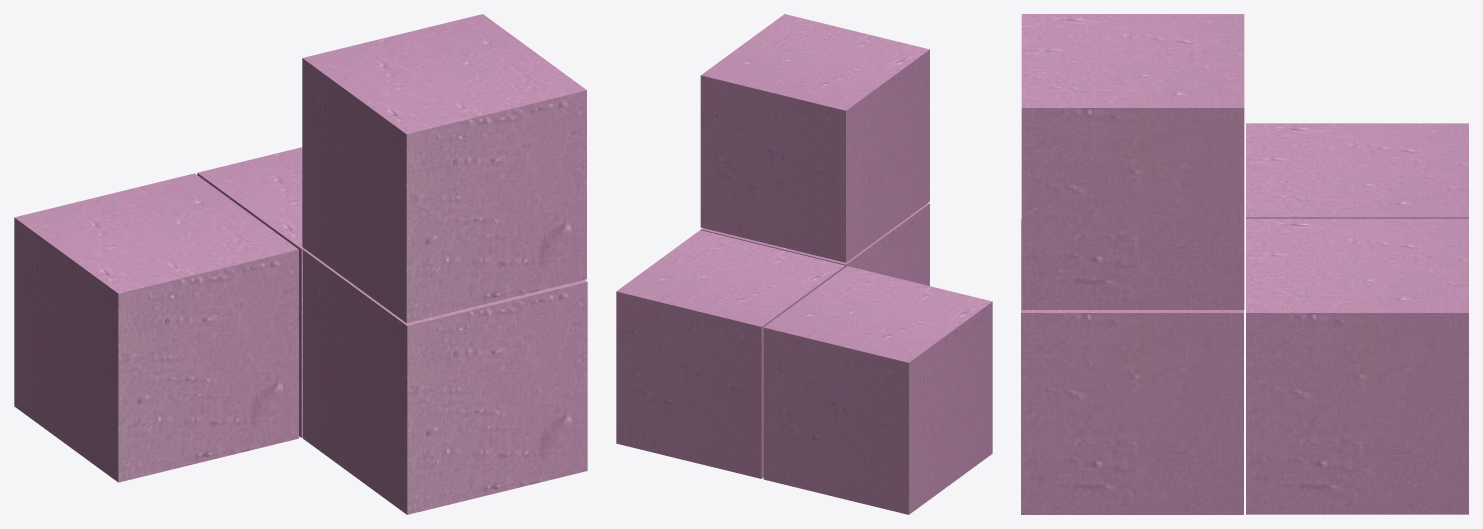
File: purple.glb
3 renders of one model, left to right at view 1: azimuth 30°, elevation 25°; view 2: azimuth 150°, elevation 25°; view 3: azimuth 270°, elevation 25°, orthographic. The views are drawn at different scales.
Visible parts, largest first — view 1: Cube.003; view 2: Cube.003; view 3: Cube.003.
Part boxes in pixels (left/top/right/bottom): Cube.003: left=14, top=14, right=587, bottom=514; Cube.003: left=616, top=14, right=992, bottom=514; Cube.003: left=1021, top=14, right=1468, bottom=514.
Bounding box in the file's own units: 0.121 × 0.1208 × 0.1206.
Materials: 1 (1 with a texture image).
